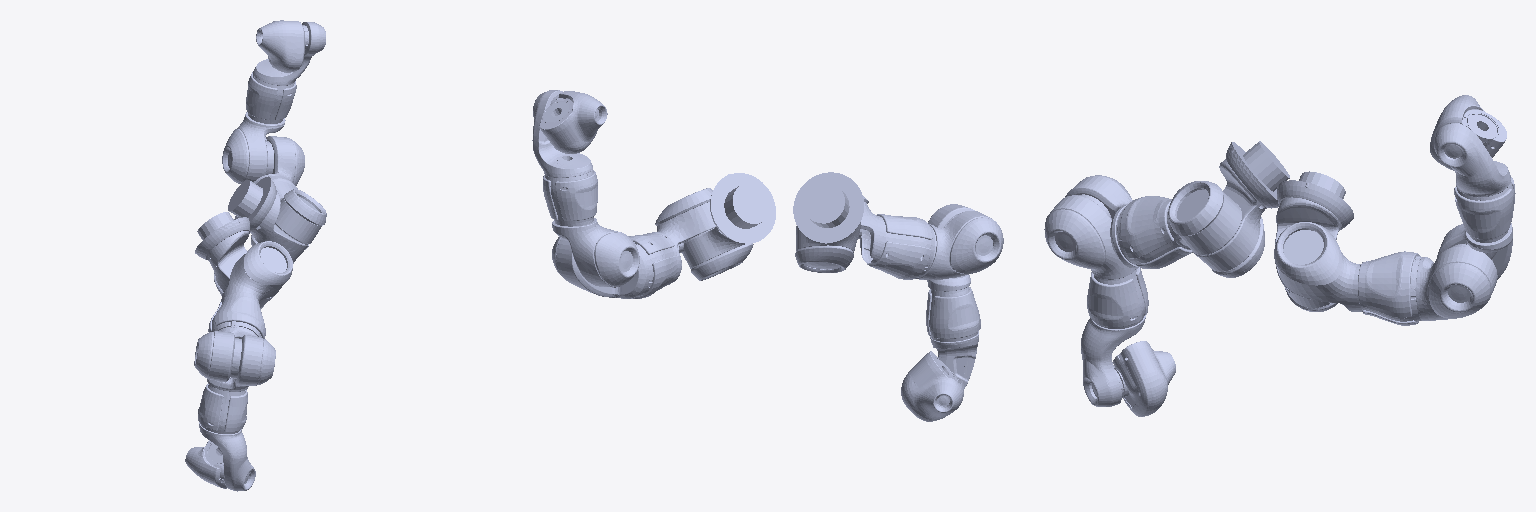
The robot description file, URDF, robot "Assem7.SLDASM":
<robot
  name="Assem7.SLDASM">
  <link
    name="Base">
    <inertial>
      <origin
        xyz="-0.391652378230922 0.317123736905382 0.478077654842691"
        rpy="0 0 0" />
      <mass
        value="45.2521372006036" />
      <inertia
        ixx="0"
        ixy="0"
        ixz="0"
        iyy="0"
        iyz="0"
        izz="0" />
    </inertial>
    <visual>
      <origin
        xyz="0 0 0"
        rpy="0 0 0" />
      <geometry>
        <mesh
          filename="package://Assem7.SLDASM/meshes/Base.STL" />
      </geometry>
      <material
        name="">
        <color
          rgba="0.792156862745098 0.819607843137255 0.933333333333333 1" />
      </material>
    </visual>
    <collision>
      <origin
        xyz="0 0 0"
        rpy="0 0 0" />
      <geometry>
        <mesh
          filename="package://Assem7.SLDASM/meshes/Base.STL" />
      </geometry>
    </collision>
  </link>
  <link
    name="Link_R_1">
    <inertial>
      <origin
        xyz="0.16939237127736 -0.264264864646352 -0.0794979176091988"
        rpy="0 0 0" />
      <mass
        value="0.962913585564909" />
      <inertia
        ixx="0"
        ixy="0"
        ixz="0"
        iyy="0"
        iyz="0"
        izz="0" />
    </inertial>
    <visual>
      <origin
        xyz="0 0 0"
        rpy="0 0 0" />
      <geometry>
        <mesh
          filename="package://Assem7.SLDASM/meshes/Link_R_1.STL" />
      </geometry>
      <material
        name="">
        <color
          rgba="0.792156862745098 0.819607843137255 0.933333333333333 1" />
      </material>
    </visual>
    <collision>
      <origin
        xyz="0 0 0"
        rpy="0 0 0" />
      <geometry>
        <mesh
          filename="package://Assem7.SLDASM/meshes/Link_R_1.STL" />
      </geometry>
    </collision>
  </link>
  <joint
    name="Joint_R_1"
    type="revolute">
    <origin
      xyz="-0.234 0.53453 0.13935"
      rpy="-1.702 0.99843 -1.2879" />
    <parent
      link="Base" />
    <child
      link="Link_R_1" />
    <axis
      xyz="-0.8138 -0.34202 -0.46985" />
    <limit
      effort="0"
      velocity="0" />
  </joint>
  <link
    name="Link_R_2">
    <inertial>
      <origin
        xyz="-0.218397512249973 -0.236693855496135 -0.0401270329372012"
        rpy="0 0 0" />
      <mass
        value="1.41049767111032" />
      <inertia
        ixx="0"
        ixy="0"
        ixz="0"
        iyy="0"
        iyz="0"
        izz="0" />
    </inertial>
    <visual>
      <origin
        xyz="0 0 0"
        rpy="0 0 0" />
      <geometry>
        <mesh
          filename="package://Assem7.SLDASM/meshes/Link_R_2.STL" />
      </geometry>
      <material
        name="">
        <color
          rgba="0.792156862745098 0.819607843137255 0.933333333333333 1" />
      </material>
    </visual>
    <collision>
      <origin
        xyz="0 0 0"
        rpy="0 0 0" />
      <geometry>
        <mesh
          filename="package://Assem7.SLDASM/meshes/Link_R_2.STL" />
      </geometry>
    </collision>
  </link>
  <joint
    name="Joint_R_2"
    type="revolute">
    <origin
      xyz="-0.0425767992915114 0.00788850307014188 0.00147083102594583"
      rpy="-1.0590273339703 -0.648760378458476 1.79870411333824" />
    <parent
      link="Link_R_1" />
    <child
      link="Link_R_2" />
    <axis
      xyz="-0.106777674129917 -0.706717031154462 0.699392283474466" />
  </joint>
  <link
    name="Link_R_3">
    <inertial>
      <origin
        xyz="-0.0992132730651508 -0.0982476221030419 -0.307764564418351"
        rpy="0 0 0" />
      <mass
        value="0.710809720074155" />
      <inertia
        ixx="0"
        ixy="0"
        ixz="0"
        iyy="0"
        iyz="0"
        izz="0" />
    </inertial>
    <visual>
      <origin
        xyz="0 0 0"
        rpy="0 0 0" />
      <geometry>
        <mesh
          filename="package://Assem7.SLDASM/meshes/Link_R_3.STL" />
      </geometry>
      <material
        name="">
        <color
          rgba="0.792156862745098 0.819607843137255 0.933333333333333 1" />
      </material>
    </visual>
    <collision>
      <origin
        xyz="0 0 0"
        rpy="0 0 0" />
      <geometry>
        <mesh
          filename="package://Assem7.SLDASM/meshes/Link_R_3.STL" />
      </geometry>
    </collision>
  </link>
  <joint
    name="Link_R_3"
    type="revolute">
    <origin
      xyz="0.121928427544517 0.0378706478024463 0.0300733453688299"
      rpy="-1.68932851944934 -0.998158131924539 -0.105873777827817" />
    <parent
      link="Link_R_2" />
    <child
      link="Link_R_3" />
    <axis
      xyz="-0.813797681341568 -0.342020143297822 -0.469846310426745" />
  </joint>
  <link
    name="Link_R_4">
    <inertial>
      <origin
        xyz="0.0879689604776907 -0.192434772618536 -0.289826718900496"
        rpy="0 0 0" />
      <mass
        value="1.18074181976138" />
      <inertia
        ixx="0"
        ixy="0"
        ixz="0"
        iyy="0"
        iyz="0"
        izz="0" />
    </inertial>
    <visual>
      <origin
        xyz="0 0 0"
        rpy="0 0 0" />
      <geometry>
        <mesh
          filename="package://Assem7.SLDASM/meshes/Link_R_4.STL" />
      </geometry>
      <material
        name="">
        <color
          rgba="0.792156862745098 0.819607843137255 0.933333333333333 1" />
      </material>
    </visual>
    <collision>
      <origin
        xyz="0 0 0"
        rpy="0 0 0" />
      <geometry>
        <mesh
          filename="package://Assem7.SLDASM/meshes/Link_R_4.STL" />
      </geometry>
    </collision>
  </link>
  <joint
    name="Joint_R_4"
    type="revolute">
    <origin
      xyz="0.119589135966857 0.0154540940930444 0.0338738671372244"
      rpy="-0.0514465613012786 0.48683124191019 -0.506381965605061" />
    <parent
      link="Link_R_3" />
    <child
      link="Link_R_4" />
    <axis
      xyz="-0.106777674126037 -0.706717031153268 0.699392283476265" />
  </joint>
  <link
    name="Link_R_5">
    <inertial>
      <origin
        xyz="0.212374877241293 -0.181516809939866 -0.236214185737154"
        rpy="0 0 0" />
      <mass
        value="0.343454833168718" />
      <inertia
        ixx="0"
        ixy="0"
        ixz="0"
        iyy="0"
        iyz="0"
        izz="0" />
    </inertial>
    <visual>
      <origin
        xyz="0 0 0"
        rpy="0 0 0" />
      <geometry>
        <mesh
          filename="package://Assem7.SLDASM/meshes/Link_R_5.STL" />
      </geometry>
      <material
        name="">
        <color
          rgba="0.792156862745098 0.819607843137255 0.933333333333333 1" />
      </material>
    </visual>
    <collision>
      <origin
        xyz="0 0 0"
        rpy="0 0 0" />
      <geometry>
        <mesh
          filename="package://Assem7.SLDASM/meshes/Link_R_5.STL" />
      </geometry>
    </collision>
  </link>
  <joint
    name="Joint_R_5"
    type="revolute">
    <origin
      xyz="0.064400665405183 -0.0154195181780619 -0.0141223336685364"
      rpy="-0.453109249443203 0.725893029899584 0.399008460969951" />
    <parent
      link="Link_R_4" />
    <child
      link="Link_R_5" />
    <axis
      xyz="0.571254638611827 -0.619332914863812 -0.53860456592083" />
  </joint>
  <link
    name="Link_R_6">
    <inertial>
      <origin
        xyz="-0.0860070403562309 -0.0768887571094813 -0.129299129477767"
        rpy="0 0 0" />
      <mass
        value="0.465729005950005" />
      <inertia
        ixx="0"
        ixy="0"
        ixz="0"
        iyy="0"
        iyz="0"
        izz="0" />
    </inertial>
    <visual>
      <origin
        xyz="0 0 0"
        rpy="0 0 0" />
      <geometry>
        <mesh
          filename="package://Assem7.SLDASM/meshes/Link_R_6.STL" />
      </geometry>
      <material
        name="">
        <color
          rgba="0.792156862745098 0.819607843137255 0.933333333333333 1" />
      </material>
    </visual>
    <collision>
      <origin
        xyz="0 0 0"
        rpy="0 0 0" />
      <geometry>
        <mesh
          filename="package://Assem7.SLDASM/meshes/Link_R_6.STL" />
      </geometry>
    </collision>
  </link>
  <joint
    name="Joint_R_6"
    type="revolute">
    <origin
      xyz="0.0950006434420367 -0.136052491866933 -0.122973426238613"
      rpy="-0.462479396007068 -0.627255876214344 0.955959542724917" />
    <parent
      link="Link_R_5" />
    <child
      link="Link_R_6" />
    <axis
      xyz="-0.10677767410704 -0.706717031146258 0.699392283486249" />
  </joint>
  <link
    name="Link_L_1">
    <inertial>
      <origin
        xyz="0.0924107468560625 -0.240061919141134 -0.120899147417188"
        rpy="0 0 0" />
      <mass
        value="0.96289957904367" />
      <inertia
        ixx="0"
        ixy="0"
        ixz="0"
        iyy="0"
        iyz="0"
        izz="0" />
    </inertial>
    <visual>
      <origin
        xyz="0 0 0"
        rpy="0 0 0" />
      <geometry>
        <mesh
          filename="package://Assem7.SLDASM/meshes/Link_L_1.STL" />
      </geometry>
      <material
        name="">
        <color
          rgba="0.792156862745098 0.819607843137255 0.933333333333333 1" />
      </material>
    </visual>
    <collision>
      <origin
        xyz="0 0 0"
        rpy="0 0 0" />
      <geometry>
        <mesh
          filename="package://Assem7.SLDASM/meshes/Link_L_1.STL" />
      </geometry>
    </collision>
  </link>
  <joint
    name="Joint_L_1"
    type="revolute">
    <origin
      xyz="-0.413086120394311 0.378820756881007 0.131123252341683"
      rpy="2.94977330450754 0.618022527307626 -2.37556302537126" />
    <parent
      link="Base" />
    <child
      link="Link_L_1" />
    <axis
      xyz="-0.813797681347727 0.342020143322096 -0.469846310398407" />
  </joint>
  <link
    name="Link_L_2">
    <inertial>
      <origin
        xyz="0.126795267064095 -0.354540904217125 -0.0818830412696779"
        rpy="0 0 0" />
      <mass
        value="1.41050893696667" />
      <inertia
        ixx="0"
        ixy="0"
        ixz="0"
        iyy="0"
        iyz="0"
        izz="0" />
    </inertial>
    <visual>
      <origin
        xyz="0 0 0"
        rpy="0 0 0" />
      <geometry>
        <mesh
          filename="package://Assem7.SLDASM/meshes/Link_L_2.STL" />
      </geometry>
      <material
        name="">
        <color
          rgba="0.792156862745098 0.819607843137255 0.933333333333333 1" />
      </material>
    </visual>
    <collision>
      <origin
        xyz="0 0 0"
        rpy="0 0 0" />
      <geometry>
        <mesh
          filename="package://Assem7.SLDASM/meshes/Link_L_2.STL" />
      </geometry>
    </collision>
  </link>
  <joint
    name="Joint_L_2"
    type="revolute">
    <origin
      xyz="-0.050152258974255 -0.00470471443985676 -0.00290286266055934"
      rpy="0.0352348093295577 0.444671832464215 0.45546830180087" />
    <parent
      link="Link_L_1" />
    <child
      link="Link_L_2" />
    <axis
      xyz="0.106777674127034 -0.706717031145236 -0.69939228348423" />
  </joint>
  <link
    name="Link_L_3">
    <inertial>
      <origin
        xyz="0.348623043407702 -0.12548342312939 -0.24356095958889"
        rpy="0 0 0" />
      <mass
        value="0.718756591337167" />
      <inertia
        ixx="0"
        ixy="0"
        ixz="0"
        iyy="0"
        iyz="0"
        izz="0" />
    </inertial>
    <visual>
      <origin
        xyz="0 0 0"
        rpy="0 0 0" />
      <geometry>
        <mesh
          filename="package://Assem7.SLDASM/meshes/Link_L_3.STL" />
      </geometry>
      <material
        name="">
        <color
          rgba="0.792156862745098 0.819607843137255 0.933333333333333 1" />
      </material>
    </visual>
    <collision>
      <origin
        xyz="0 0 0"
        rpy="0 0 0" />
      <geometry>
        <mesh
          filename="package://Assem7.SLDASM/meshes/Link_L_3.STL" />
      </geometry>
    </collision>
  </link>
  <joint
    name="Joint_L_3"
    type="revolute">
    <origin
      xyz="0.117263048726388 -0.0110908654890661 0.0559188027327371"
      rpy="-0.809598804397326 0.120389842304229 -0.516238672529608" />
    <parent
      link="Link_L_2" />
    <child
      link="Link_L_3" />
    <axis
      xyz="-0.813797681351336 0.342020143359141 -0.46984631036519" />
  </joint>
  <link
    name="Link_L_4">
    <inertial>
      <origin
        xyz="-0.173624944242991 -0.209476550471471 -0.304011424920351"
        rpy="0 0 0" />
      <mass
        value="1.18076689553199" />
      <inertia
        ixx="0"
        ixy="0"
        ixz="0"
        iyy="0"
        iyz="0"
        izz="0" />
    </inertial>
    <visual>
      <origin
        xyz="0 0 0"
        rpy="0 0 0" />
      <geometry>
        <mesh
          filename="package://Assem7.SLDASM/meshes/Link_L_4.STL" />
      </geometry>
      <material
        name="">
        <color
          rgba="0.792156862745098 0.819607843137255 0.933333333333333 1" />
      </material>
    </visual>
    <collision>
      <origin
        xyz="0 0 0"
        rpy="0 0 0" />
      <geometry>
        <mesh
          filename="package://Assem7.SLDASM/meshes/Link_L_4.STL" />
      </geometry>
    </collision>
  </link>
  <joint
    name="Joint_L_4"
    type="revolute">
    <origin
      xyz="0.124726239253784 -0.0176130985301869 0.0368397751060791"
      rpy="1.46949175534269 -0.324505286527908 -2.48322027377785" />
    <parent
      link="Link_L_3" />
    <child
      link="Link_L_4" />
    <axis
      xyz="0.106777674130014 -0.706717031141071 -0.699392283487983" />
  </joint>
  <link
    name="Link_L_5">
    <inertial>
      <origin
        xyz="-0.279324873685755 -0.0371683641076806 -0.361515712746572"
        rpy="0 0 0" />
      <mass
        value="0.343463548243008" />
      <inertia
        ixx="0"
        ixy="0"
        ixz="0"
        iyy="0"
        iyz="0"
        izz="0" />
    </inertial>
    <visual>
      <origin
        xyz="0 0 0"
        rpy="0 0 0" />
      <geometry>
        <mesh
          filename="package://Assem7.SLDASM/meshes/Link_L_5.STL" />
      </geometry>
      <material
        name="">
        <color
          rgba="0.792156862745098 0.819607843137255 0.933333333333333 1" />
      </material>
    </visual>
    <collision>
      <origin
        xyz="0 0 0"
        rpy="0 0 0" />
      <geometry>
        <mesh
          filename="package://Assem7.SLDASM/meshes/Link_L_5.STL" />
      </geometry>
    </collision>
  </link>
  <joint
    name="Joint_L_5"
    type="revolute">
    <origin
      xyz="0.0707847867946956 0.0319744522076585 -0.0131289505176138"
      rpy="-0.270391687985844 -0.226629272653454 0.258163426955506" />
    <parent
      link="Link_L_4" />
    <child
      link="Link_L_5" />
    <axis
      xyz="-0.571254638611774 -0.619332914864764 0.538604565919791" />
  </joint>
  <link
    name="Link_L_6">
    <inertial>
      <origin
        xyz="0.195679127188431 -0.372161993949849 0.0376141872887998"
        rpy="0 0 0" />
      <mass
        value="0.470271640043924" />
      <inertia
        ixx="0"
        ixy="0"
        ixz="0"
        iyy="0"
        iyz="0"
        izz="0" />
    </inertial>
    <visual>
      <origin
        xyz="0 0 0"
        rpy="0 0 0" />
      <geometry>
        <mesh
          filename="package://Assem7.SLDASM/meshes/Link_L_6.STL" />
      </geometry>
      <material
        name="">
        <color
          rgba="0.792156862745098 0.819607843137255 0.933333333333333 1" />
      </material>
    </visual>
    <collision>
      <origin
        xyz="0 0 0"
        rpy="0 0 0" />
      <geometry>
        <mesh
          filename="package://Assem7.SLDASM/meshes/Link_L_6.STL" />
      </geometry>
    </collision>
  </link>
  <joint
    name="Joint_L_6"
    type="revolute">
    <origin
      xyz="0.0873658631500653 0.12777514860224 -0.115775011995668"
      rpy="1.42606342179077 -0.390308321038186 -2.39226319913886" />
    <parent
      link="Link_L_5" />
    <child
      link="Link_L_6" />
    <axis
      xyz="0.106777674149993 -0.706717031153935 -0.699392283471934" />
  </joint>
</robot>

--- Render facts (derived) ---
3 views of the same robot in one strip: view 1: azimuth 30°, elevation 25°; view 2: azimuth 150°, elevation 25°; view 3: azimuth 270°, elevation 25° (orthographic).
Model Assem7.SLDASM with 13 links and 12 joints (12 revolute), rooted at Base, posed every joint at zero.
Visible links, largest first — view 1: Link_R_4, Link_L_2, Link_L_4, Link_R_1, Link_L_1, Link_R_2, Link_R_6, Link_L_3, Link_L_5, Link_R_5, Link_R_3, Link_L_6; view 2: Link_R_4, Link_R_1, Link_L_1, Link_L_2, Link_R_2, Link_L_3, Link_L_4, Link_R_6, Link_L_6, Link_R_5, Link_R_3, Link_L_5; view 3: Link_R_2, Link_L_2, Link_L_4, Link_L_1, Link_R_3, Link_R_1, Link_R_4, Link_R_5, Link_L_6, Link_L_5, Link_R_6, Link_L_3.
Boxes of the visible links, x1,y1,x2,y2 form: Link_R_4: (222,72,296,183); Link_L_2: (208,241,292,338); Link_L_4: (198,335,275,433); Link_R_1: (228,177,308,263); Link_L_1: (195,212,273,308); Link_R_2: (255,176,326,244); Link_R_6: (256,20,308,72); Link_L_3: (194,326,257,382); Link_L_5: (199,422,255,491); Link_R_5: (253,22,325,85); Link_R_3: (253,136,304,185); Link_L_6: (185,440,226,488); Link_R_4: (543,170,639,287); Link_R_1: (679,173,775,280); Link_L_1: (793,172,863,272); Link_L_2: (858,196,934,279); Link_R_2: (629,188,715,298); Link_L_3: (915,211,1003,279); Link_L_4: (926,204,980,341); Link_R_6: (539,91,607,153); Link_L_6: (901,351,963,421); Link_R_5: (532,90,592,177); Link_R_3: (552,237,648,298); Link_L_5: (930,331,978,388); Link_R_2: (1274,222,1421,325); Link_L_2: (1117,181,1241,268); Link_L_4: (1044,194,1148,328); Link_L_1: (1193,141,1289,277); Link_R_3: (1416,246,1497,320); Link_R_1: (1275,171,1353,311); Link_R_4: (1437,177,1515,279); Link_R_5: (1434,124,1510,196); Link_L_6: (1113,341,1175,416); Link_L_5: (1081,315,1145,406); Link_R_6: (1430,95,1506,170); Link_L_3: (1065,175,1138,267).
Size in the robot's own frame: 0.5891 by 0.7011 by 0.7001 metres.
12 mesh visuals loaded from 13 distinct referenced files (12 binary STL); not drawn: 1 (reference not matched to a file when rendering).